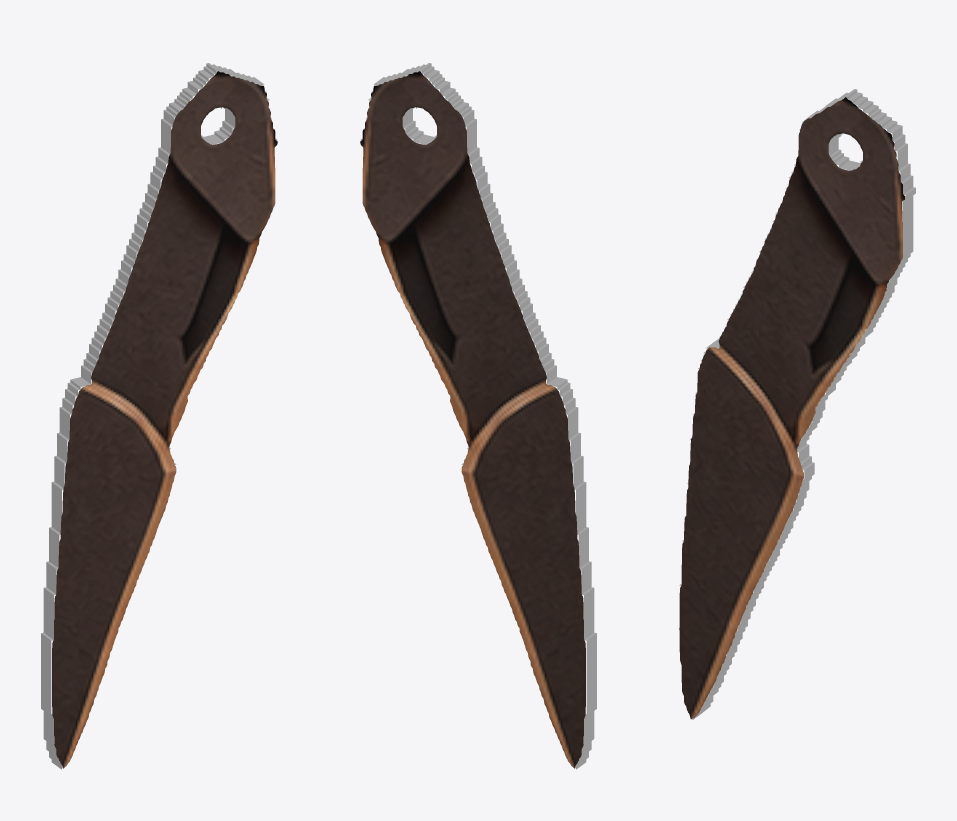
File: Variant01Lower.glb
3 views of the same model, side by side, from view 1: azimuth 30°, elevation 25°; view 2: azimuth 150°, elevation 25°; view 3: azimuth 330°, elevation 25° (orthographic).
Parts seen in each view (by area): view 1: PaperVolume; view 2: PaperVolume; view 3: PaperVolume.
Boxes of the visible parts, <box> form: PaperVolume: <box>41,63,277,769</box>; PaperVolume: <box>360,63,596,769</box>; PaperVolume: <box>679,89,915,719</box>.
Bounding box in the file's own units: 1.25 × 3.06 × 0.08.
Materials: 3 (2 with a texture image).
